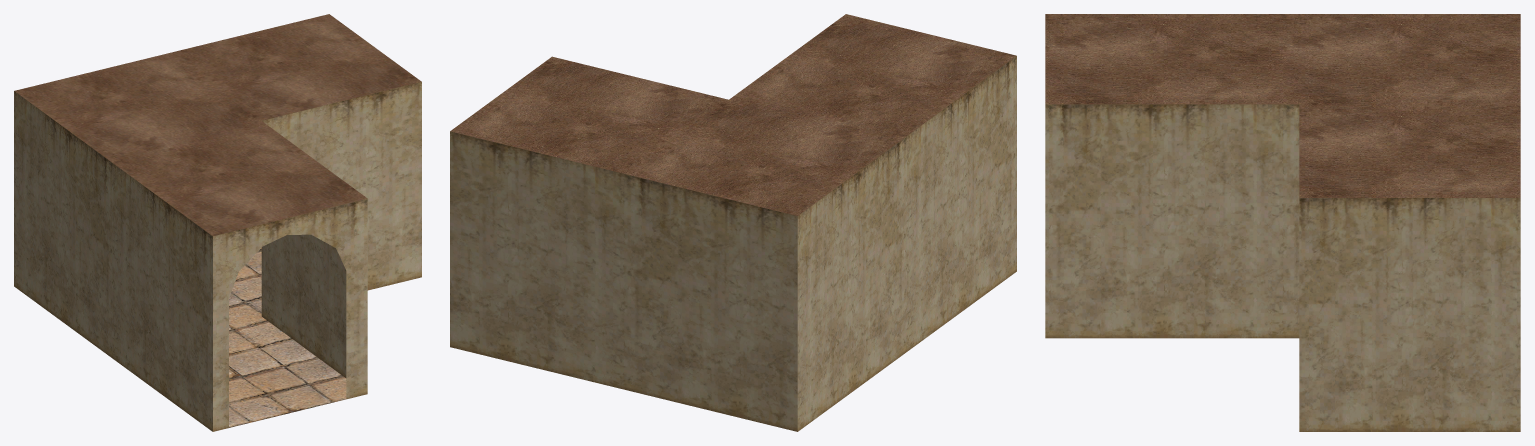
Rendered from mun_tato_shuttleport_s01_r1_mesh.fbx.
3 views of the same model, side by side, from view 1: azimuth 30°, elevation 25°; view 2: azimuth 150°, elevation 25°; view 3: azimuth 270°, elevation 25° (orthographic). The views are drawn at different scales.
Parts seen in each view (by area): view 1: mesh_node; view 2: mesh_node; view 3: mesh_node.
Part boxes in pixels (x1,y1,x2,y2): mesh_node: [14, 14, 421, 431]; mesh_node: [450, 14, 1016, 431]; mesh_node: [1045, 14, 1520, 431].
Size of the model in its own units: 7.08 by 4.2 by 7.73.
